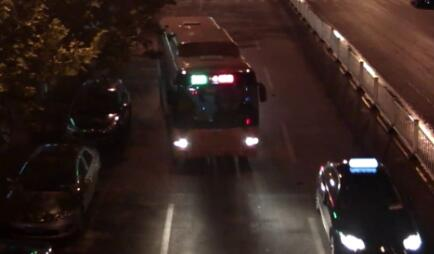bus: (153, 10, 269, 166)
car: (313, 155, 424, 251), (6, 144, 99, 242), (63, 77, 134, 147)
